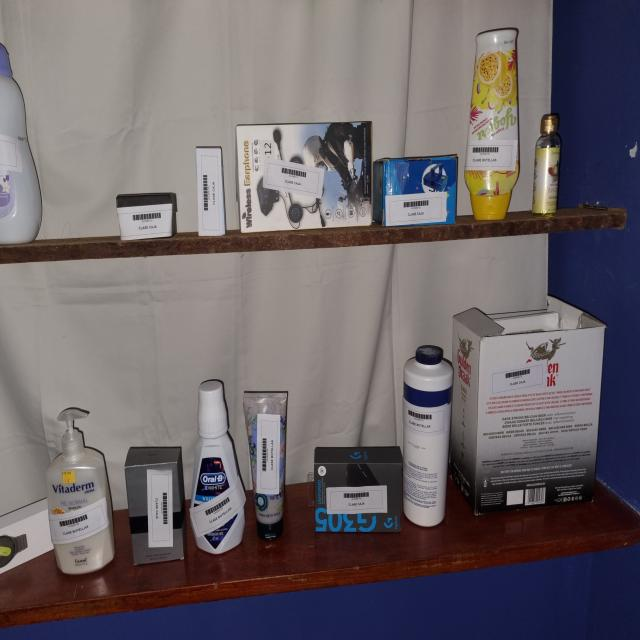botella: (47, 407, 114, 574), (464, 28, 520, 220), (190, 380, 245, 554), (403, 345, 453, 527), (0, 44, 42, 245), (254, 391, 288, 540), (531, 113, 561, 216)
caja: (450, 296, 605, 514), (236, 121, 372, 232), (314, 447, 402, 534), (125, 447, 186, 566), (373, 154, 458, 226), (0, 499, 54, 575), (116, 192, 177, 240), (195, 146, 226, 236)
